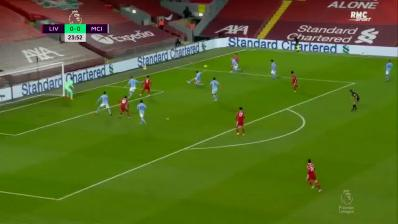football: (203, 64, 210, 68)
player: (303, 158, 324, 194), (92, 91, 114, 117), (233, 104, 248, 138), (185, 69, 206, 88), (209, 76, 222, 104), (63, 76, 78, 100), (136, 98, 148, 128), (118, 95, 132, 120), (288, 69, 302, 94), (139, 75, 153, 98), (382, 59, 394, 84), (128, 75, 139, 100), (268, 58, 280, 80), (230, 54, 239, 73), (230, 58, 240, 73)
referee: (348, 88, 362, 113)
